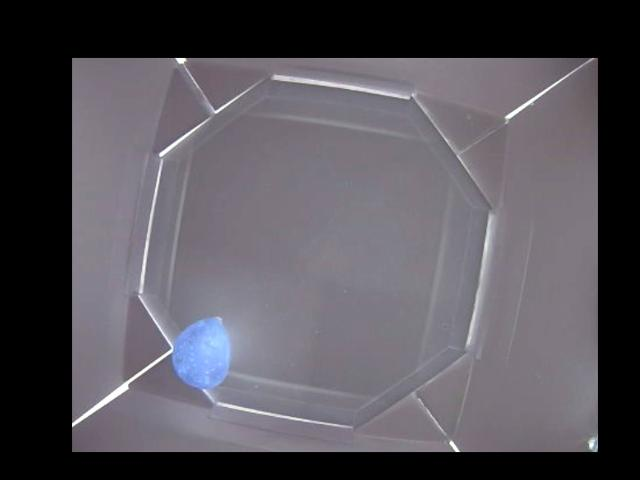Potato: (172, 315, 229, 388)
